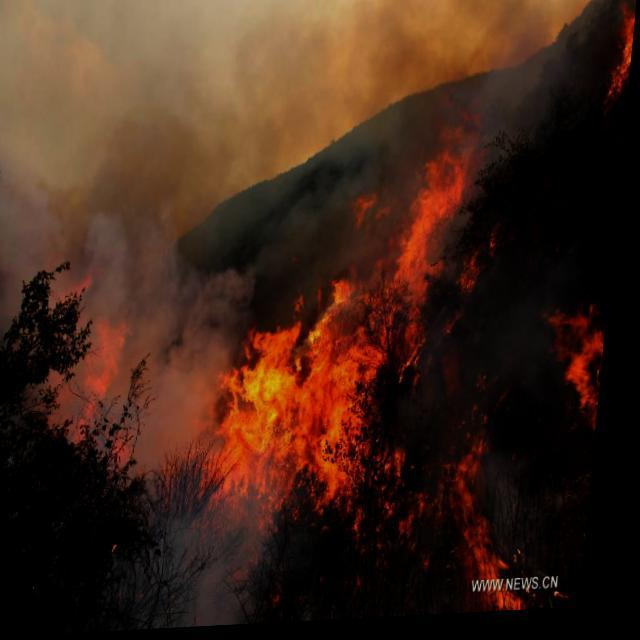Fire: (210, 277, 474, 556)
